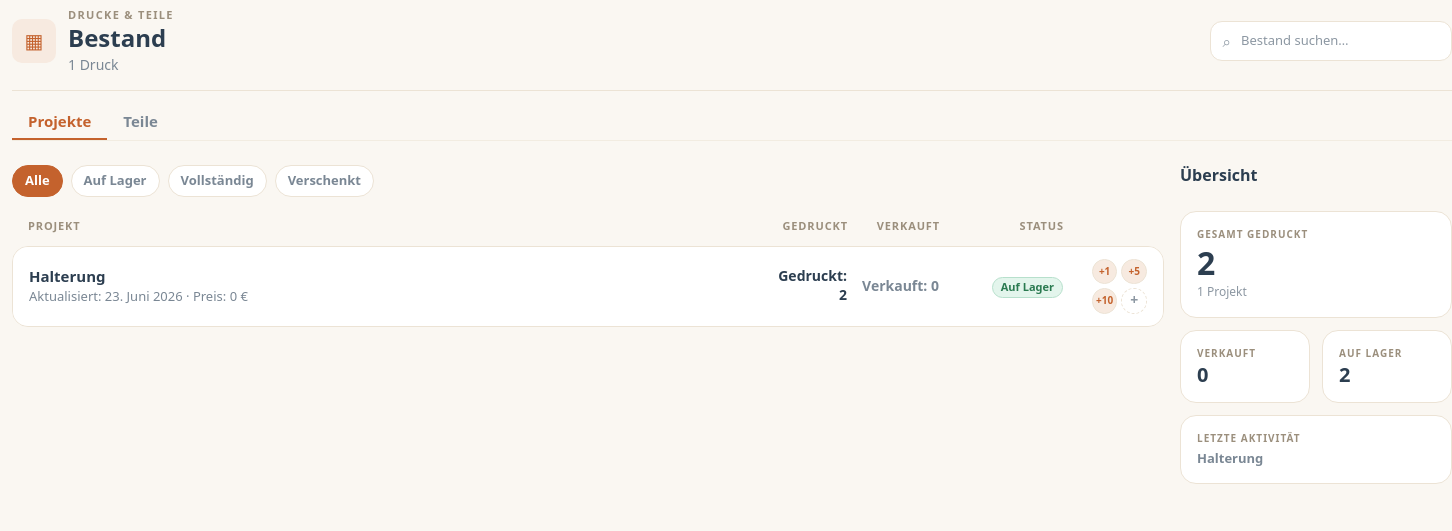
Test: InventoryComponent › records +1 print occurrence directly (no confirmation) and updates printed count
This screenshot has width=1452, height=531.
Click the button with test id "inventory-record-print": (1105, 271) [1092,258,1117,284]
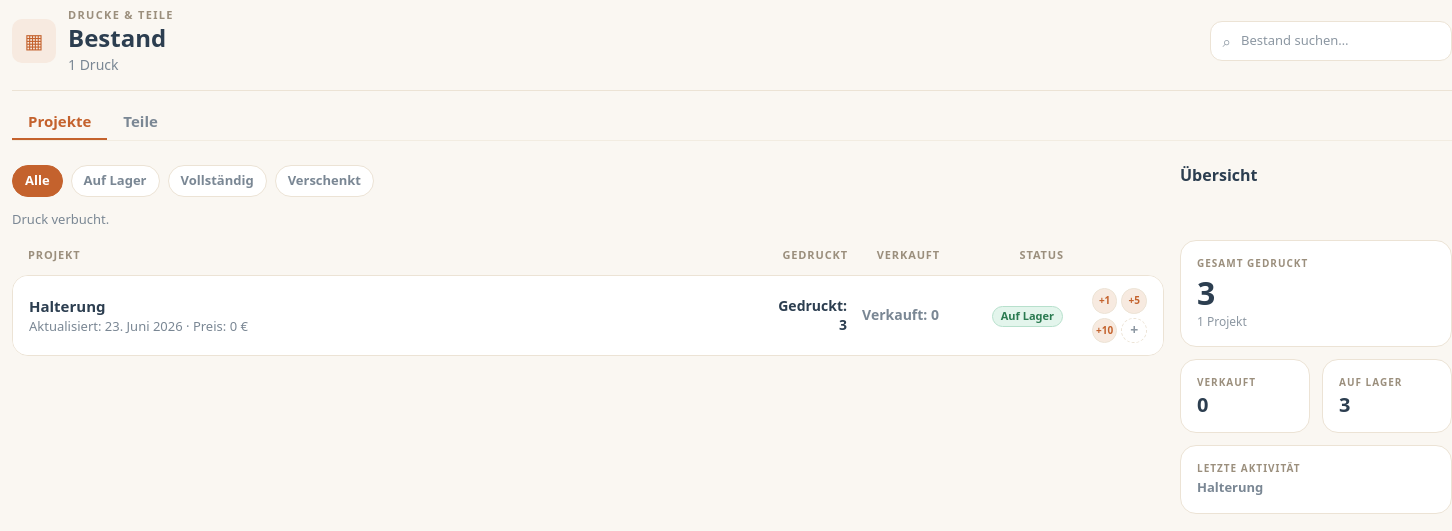
Result: the text "Gedruckt: 3" is shown at [767,297,847,335]
